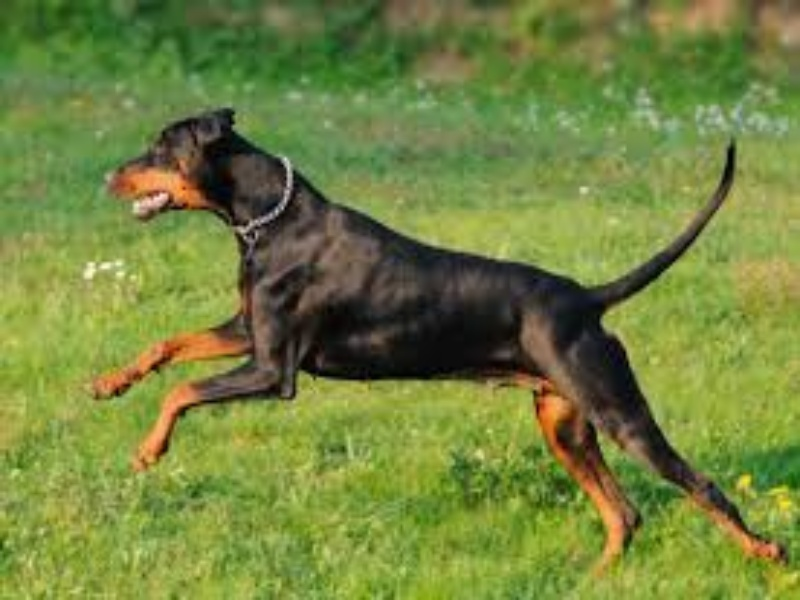dog: (65, 63, 790, 569)
